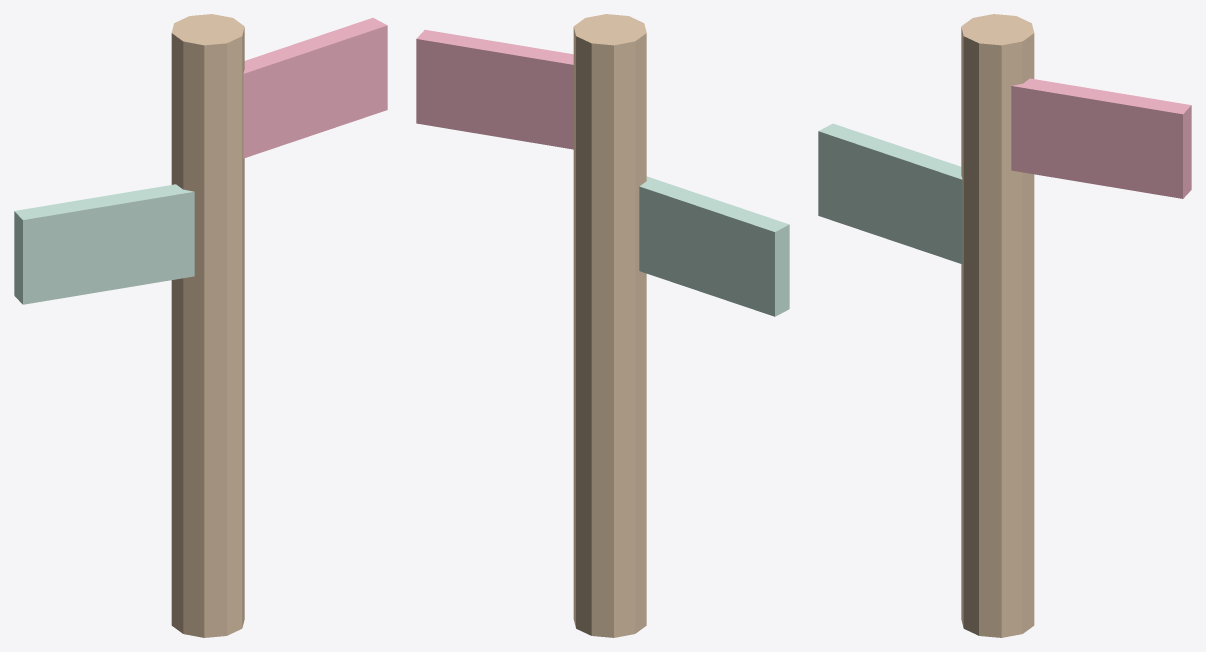
File: Signpost.glb
3 renders of one model, left to right at view 1: azimuth 30°, elevation 25°; view 2: azimuth 150°, elevation 25°; view 3: azimuth 330°, elevation 25°, orthographic.
Visible parts, largest first — view 1: Signpost; view 2: Signpost; view 3: Signpost.
Boxes of the visible parts, x1,y1,x2,y2 form: Signpost: (14,14,387,637); Signpost: (416,14,789,637); Signpost: (818,14,1191,637).
Bounding box in the file's own units: 0.9019 × 1.4 × 0.16.
